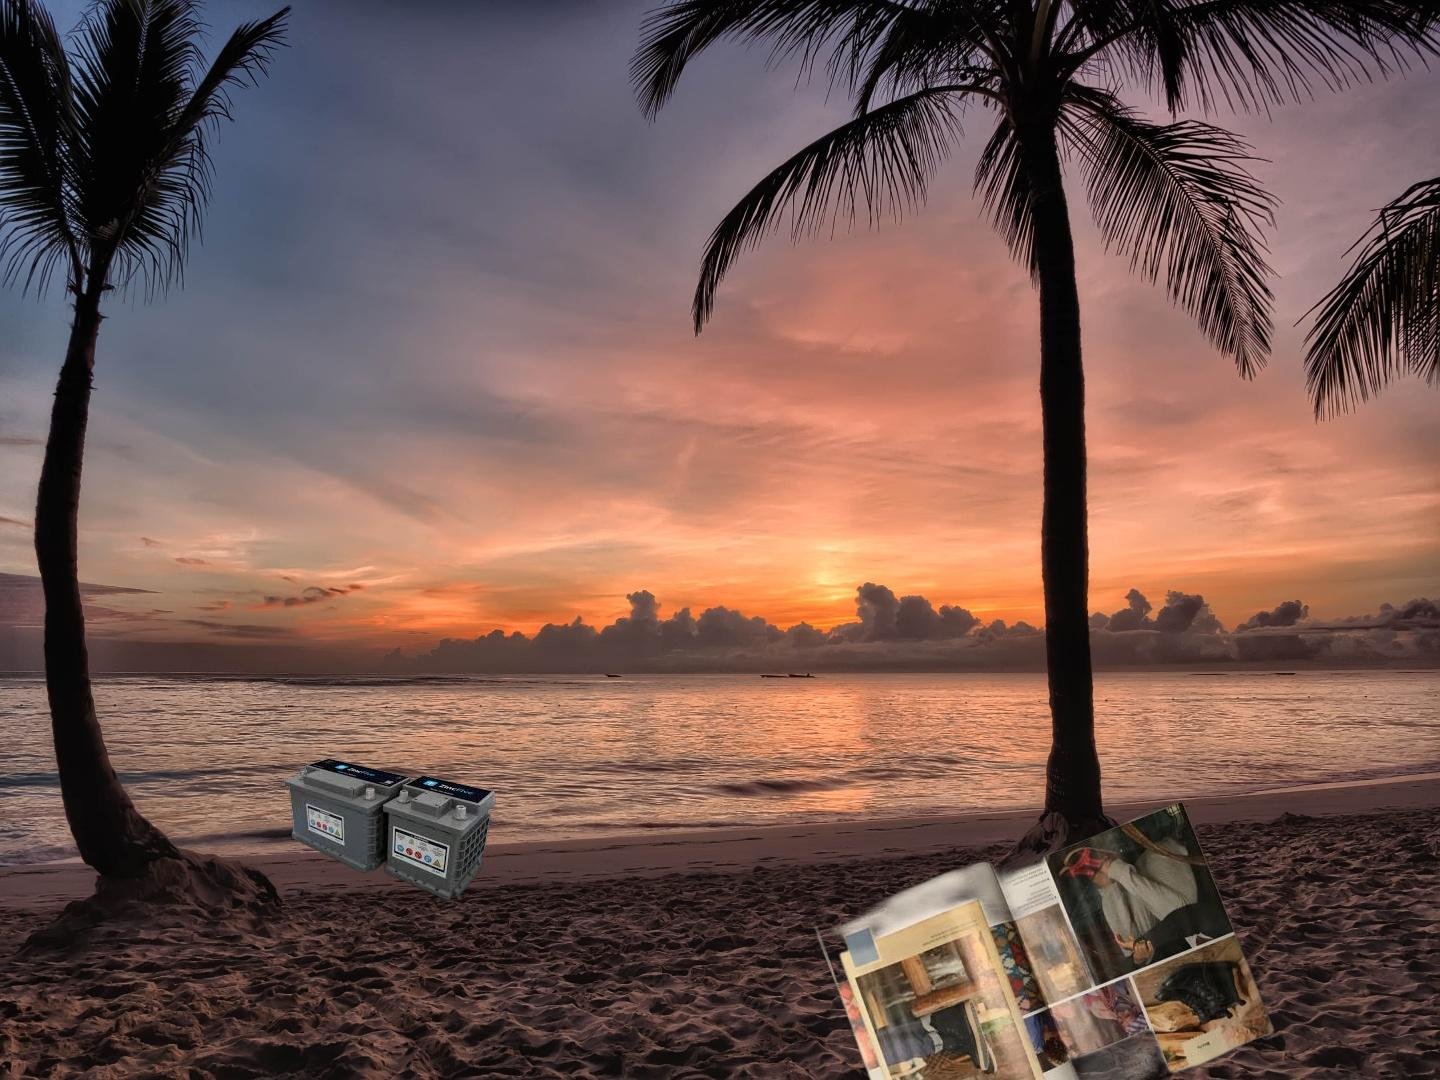battery: (280, 756, 498, 903)
paper: (808, 798, 1278, 1080), (1355, 1053, 1440, 1080)
